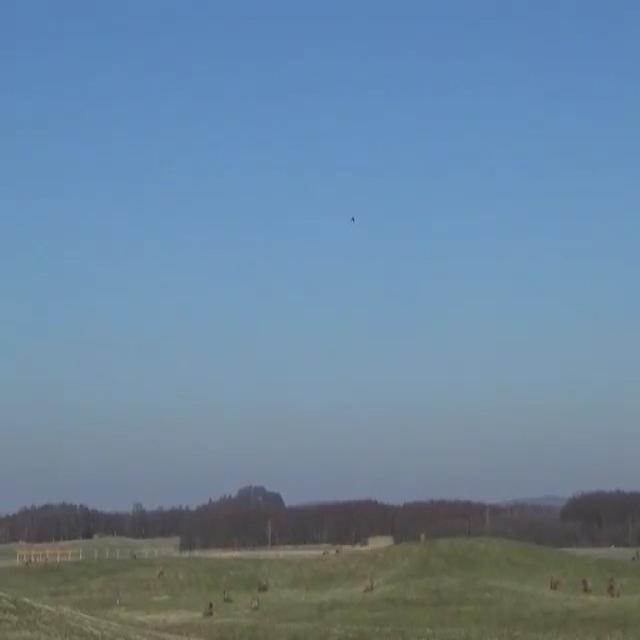bird: (347, 205, 363, 230)
